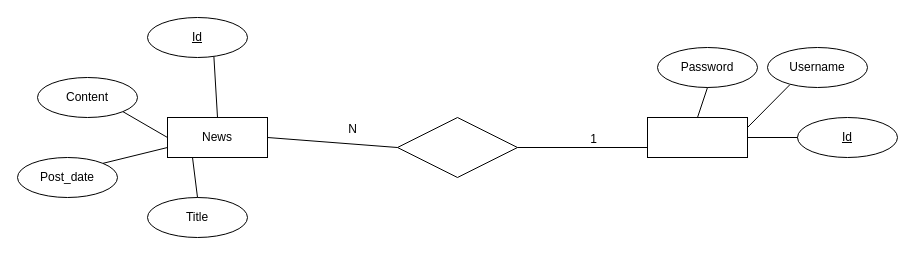
Image size: 915x255. Some labels were removed from this diagram. Here are the shapes that lost their labels. From the top down, the box of each, then its label:
(396, 116, 518, 178): made_by
(646, 116, 748, 158): Users
